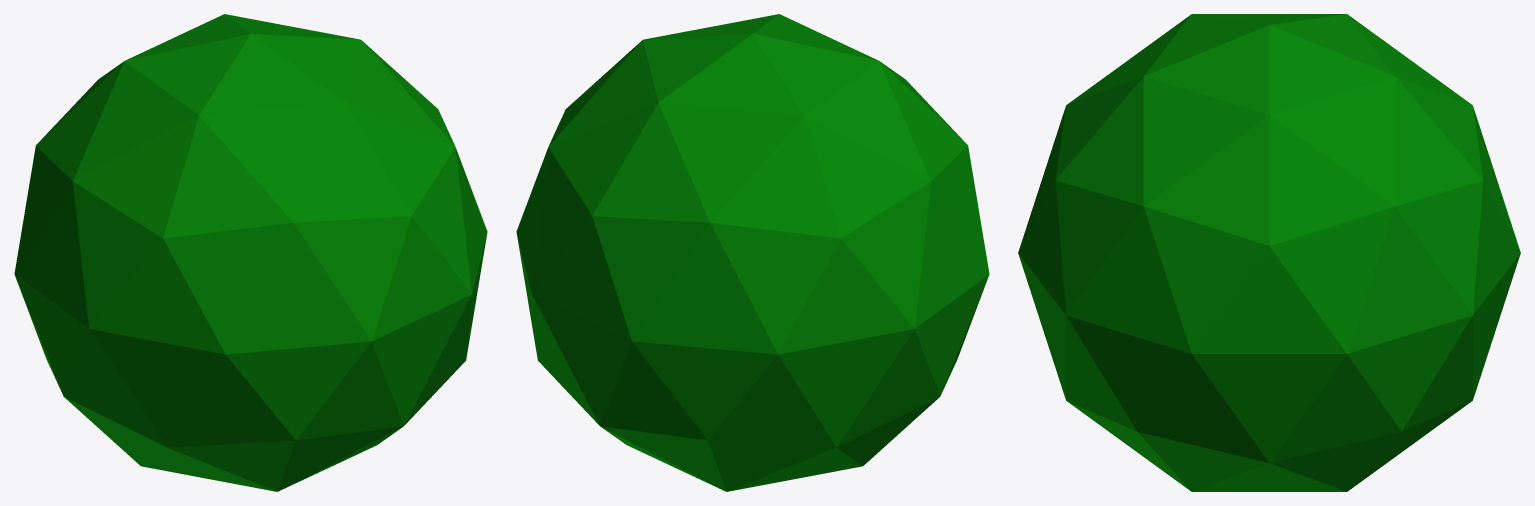
File: Bush.fbx
3 renders of one model, left to right at view 1: azimuth 30°, elevation 25°; view 2: azimuth 150°, elevation 25°; view 3: azimuth 270°, elevation 25°, orthographic. The views are drawn at different scales.
Visible parts, largest first — view 1: Bush; view 2: Bush; view 3: Bush.
Part boxes in pixels (<box>): Bush: <box>14,14,487,491</box>; Bush: <box>516,14,989,491</box>; Bush: <box>1018,14,1520,491</box>.
Bounding box in the file's own units: 190 × 185 × 200.
